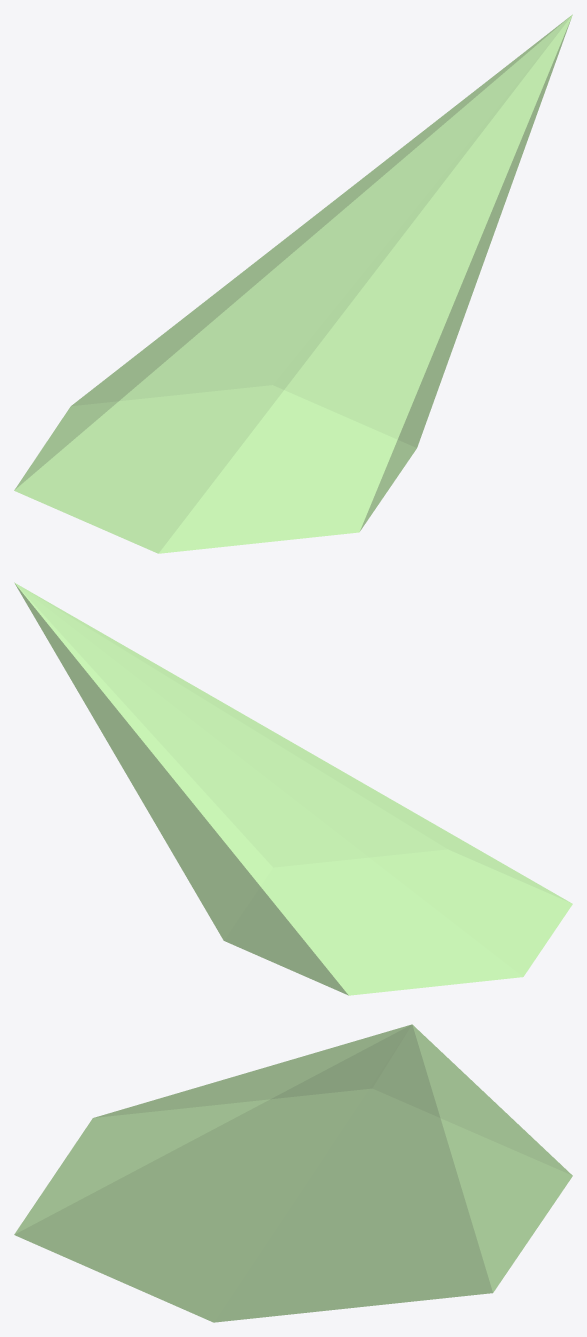
Rendered from piramide1.glb.
The picture shows the model from 3 angles, top to bottom: view 1: azimuth 30°, elevation 25°; view 2: azimuth 150°, elevation 25°; view 3: azimuth 270°, elevation 25°; orthographic projection. The views are drawn at different scales.
Size of the model in its own units: 7.36 by 4 by 4.48.
